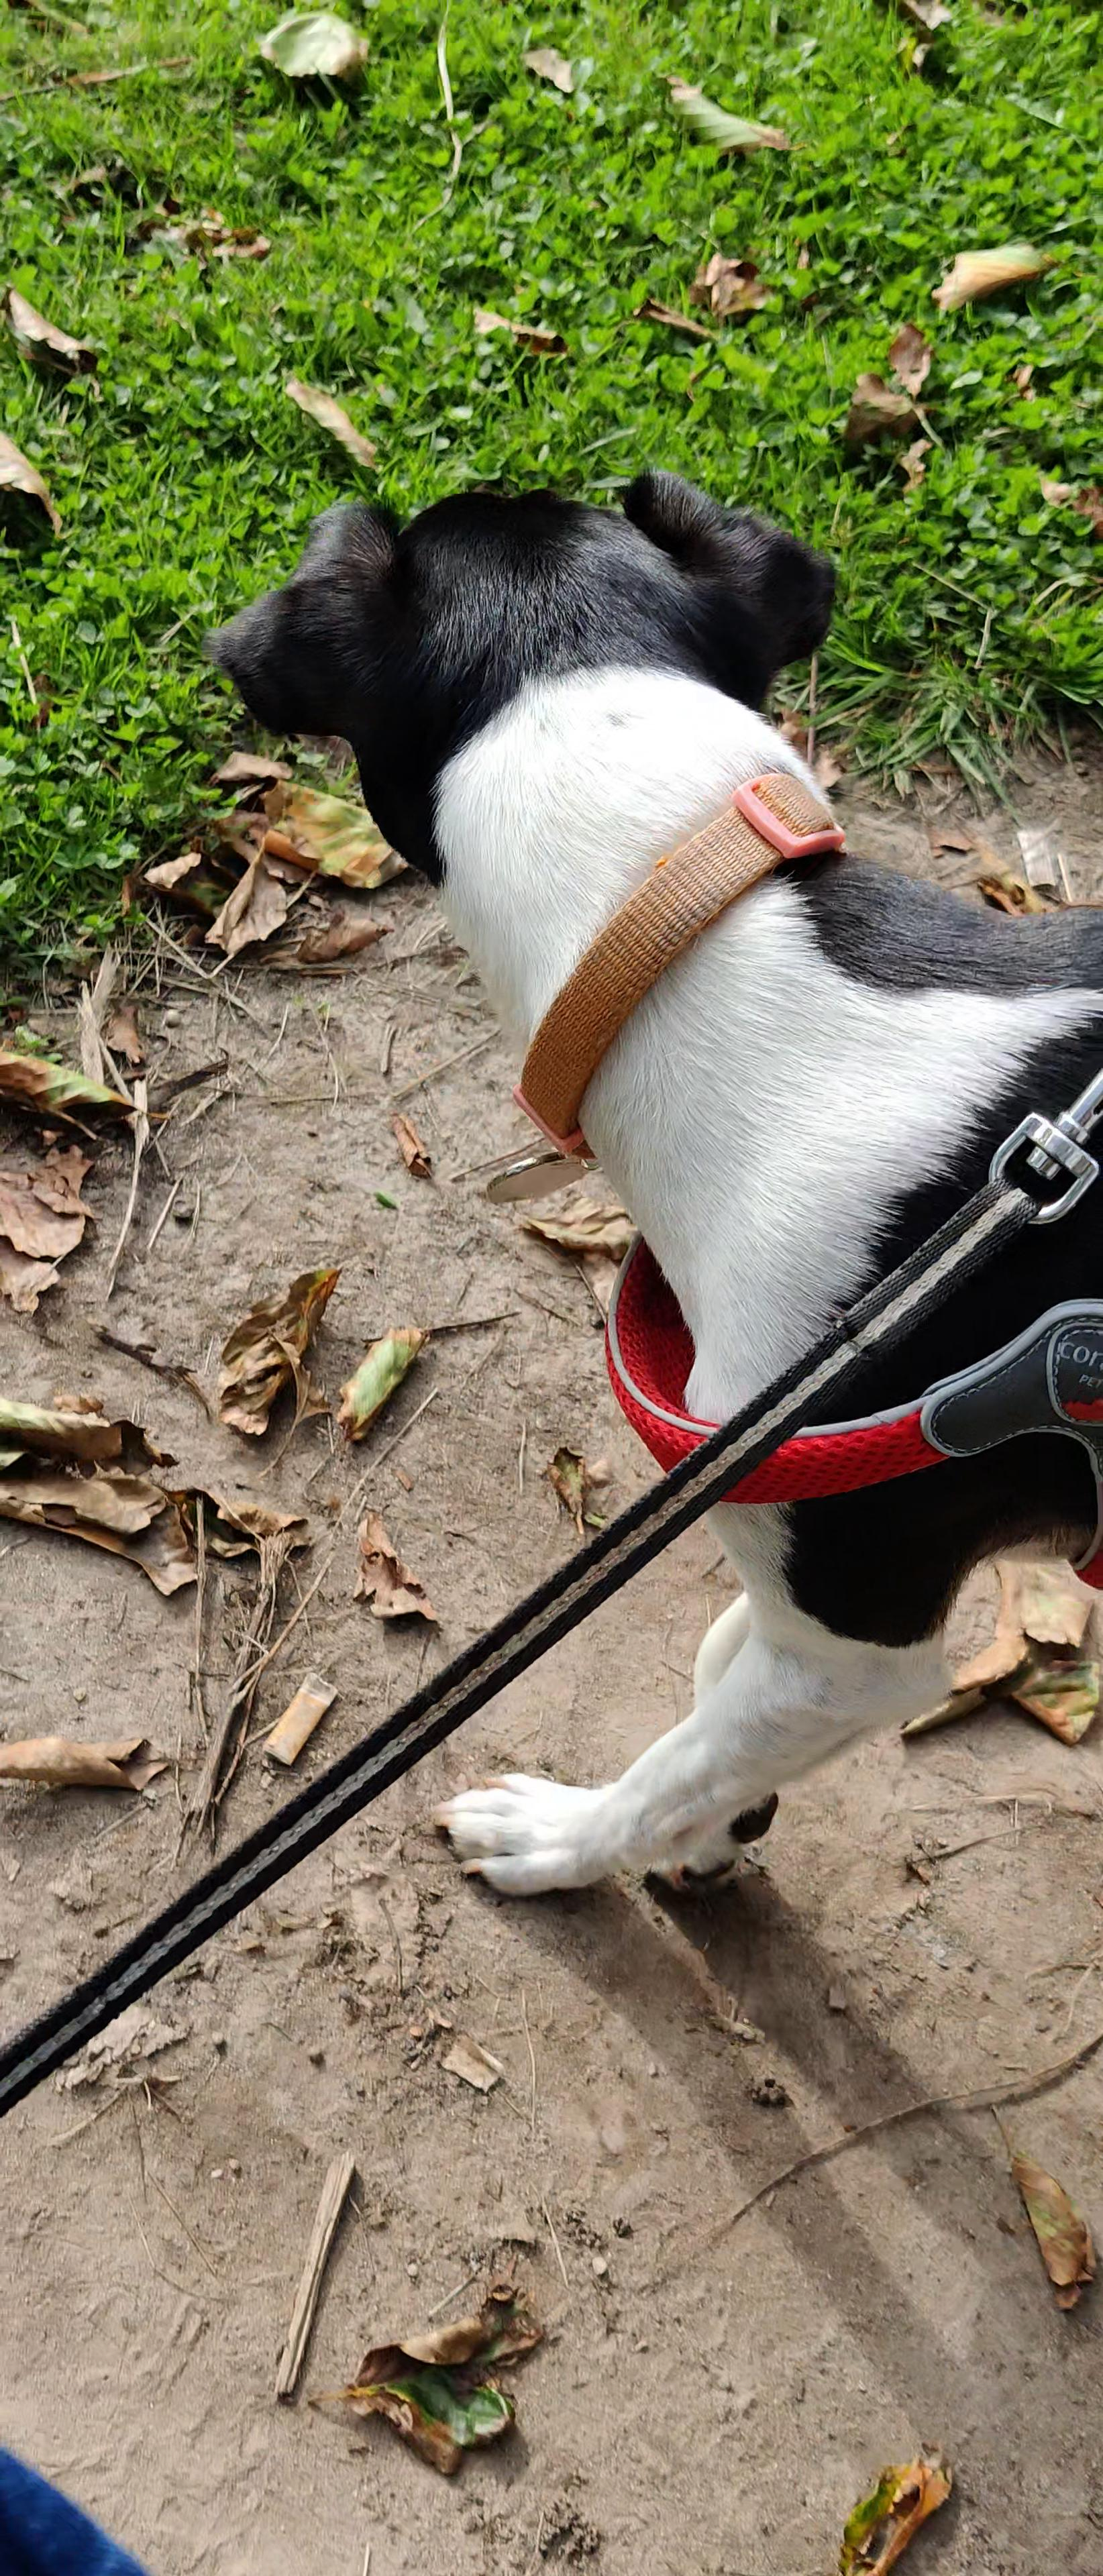Dog: (184, 432, 1103, 2001)
